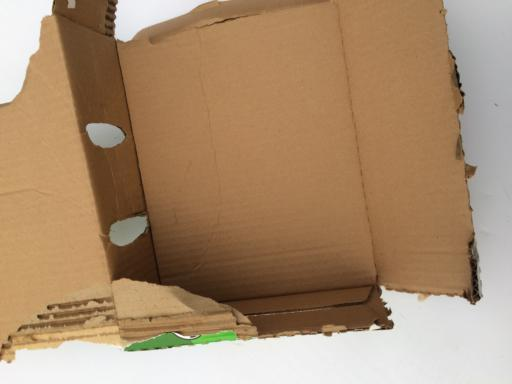cardboard: (0, 2, 490, 359)
